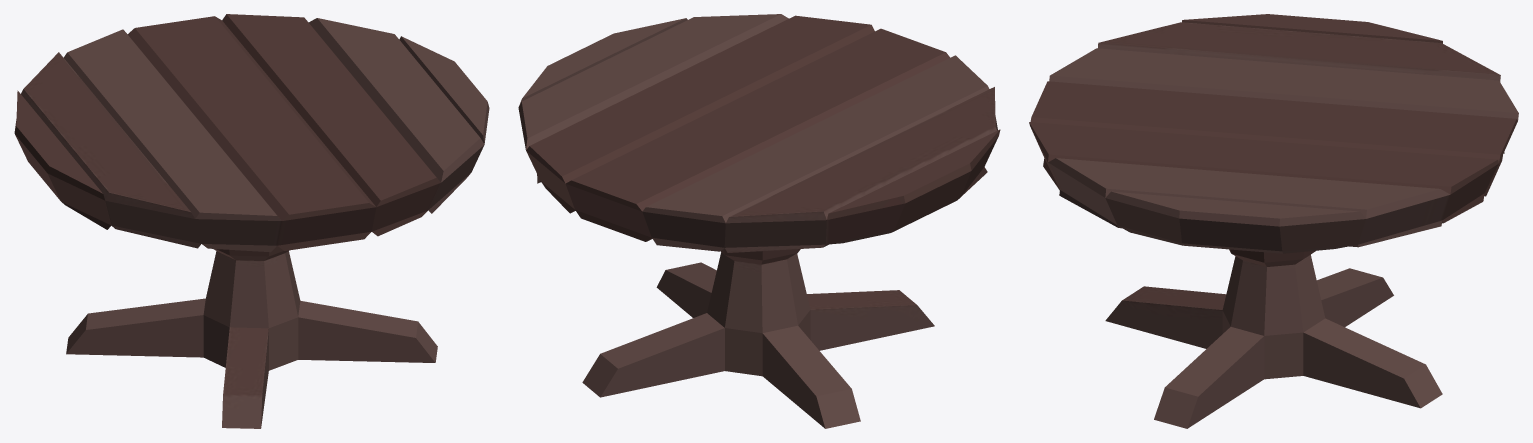
3 views of the same model, side by side, from view 1: azimuth 30°, elevation 25°; view 2: azimuth 150°, elevation 25°; view 3: azimuth 270°, elevation 25° (orthographic).
Parts seen in each view (by area): view 1: table.001; view 2: table.001; view 3: table.001.
Boxes of the visible parts, bbox=[...] form: table.001: bbox=[14, 14, 489, 428]; table.001: bbox=[518, 14, 1000, 428]; table.001: bbox=[1029, 14, 1518, 428].
Size of the model in its own units: 1.99 by 1.09 by 2.
1 material, 1 textured.
